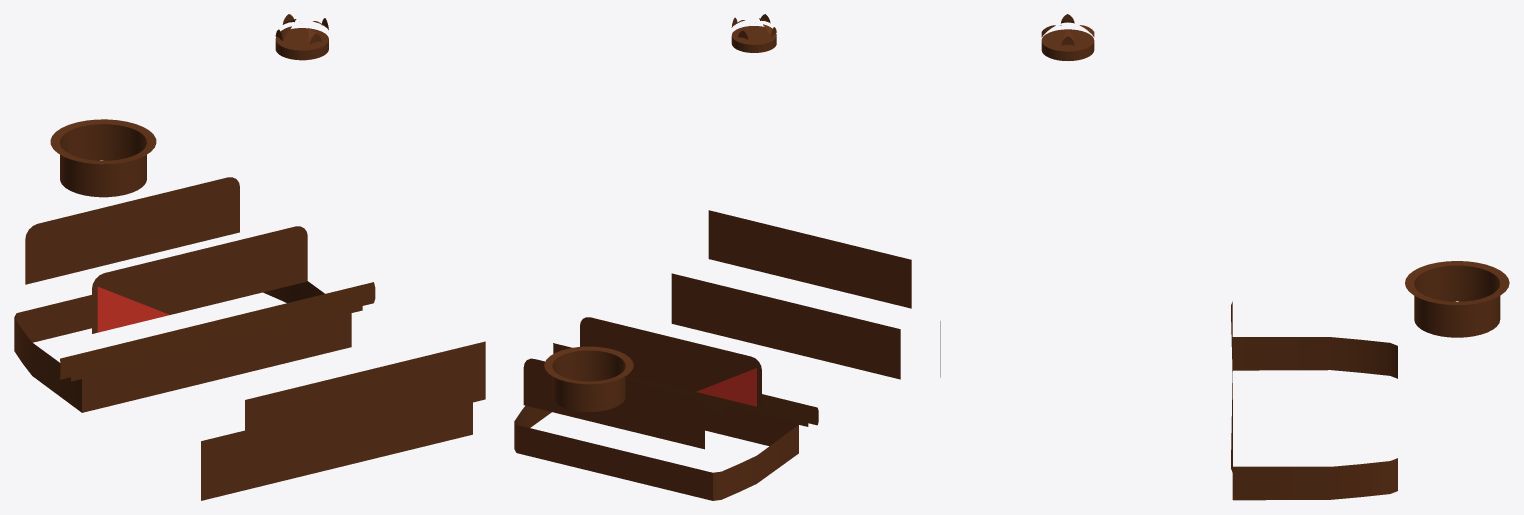
The model's file is Paredes1.fbx.
3 views of the same model, side by side, from view 1: azimuth 30°, elevation 25°; view 2: azimuth 150°, elevation 25°; view 3: azimuth 270°, elevation 25° (orthographic). The views are drawn at different scales.
Parts seen in each view (by area): view 1: paredes1; view 2: paredes1; view 3: paredes1.
Part boxes in pixels (box(x1,y1,x2,y2)): paredes1: box(14, 14, 485, 500); paredes1: box(514, 14, 911, 500); paredes1: box(940, 14, 1509, 500).
Bounding box in the file's own units: 4088 × 5174 × 6492.
